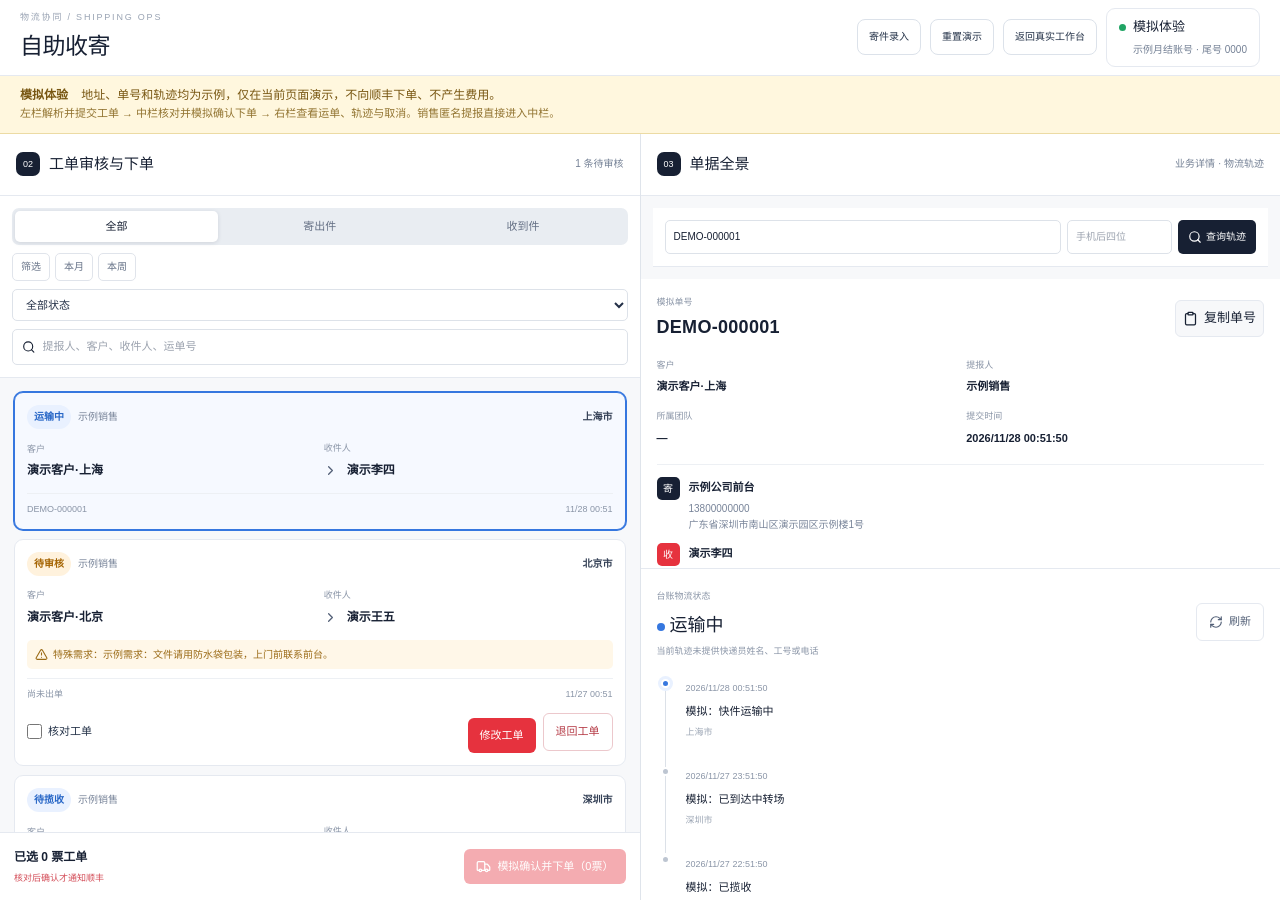
Test: explicit shipping simulation › demonstrates the pending sales confirmation and resets only local example state
The width and height of the screenshot is (1280, 900).
Expected: the text "模拟：快件运输中" is shown, [686, 705, 774, 717]
Click the text "演示客户·北京" at (65, 617), box [27, 610, 103, 624]
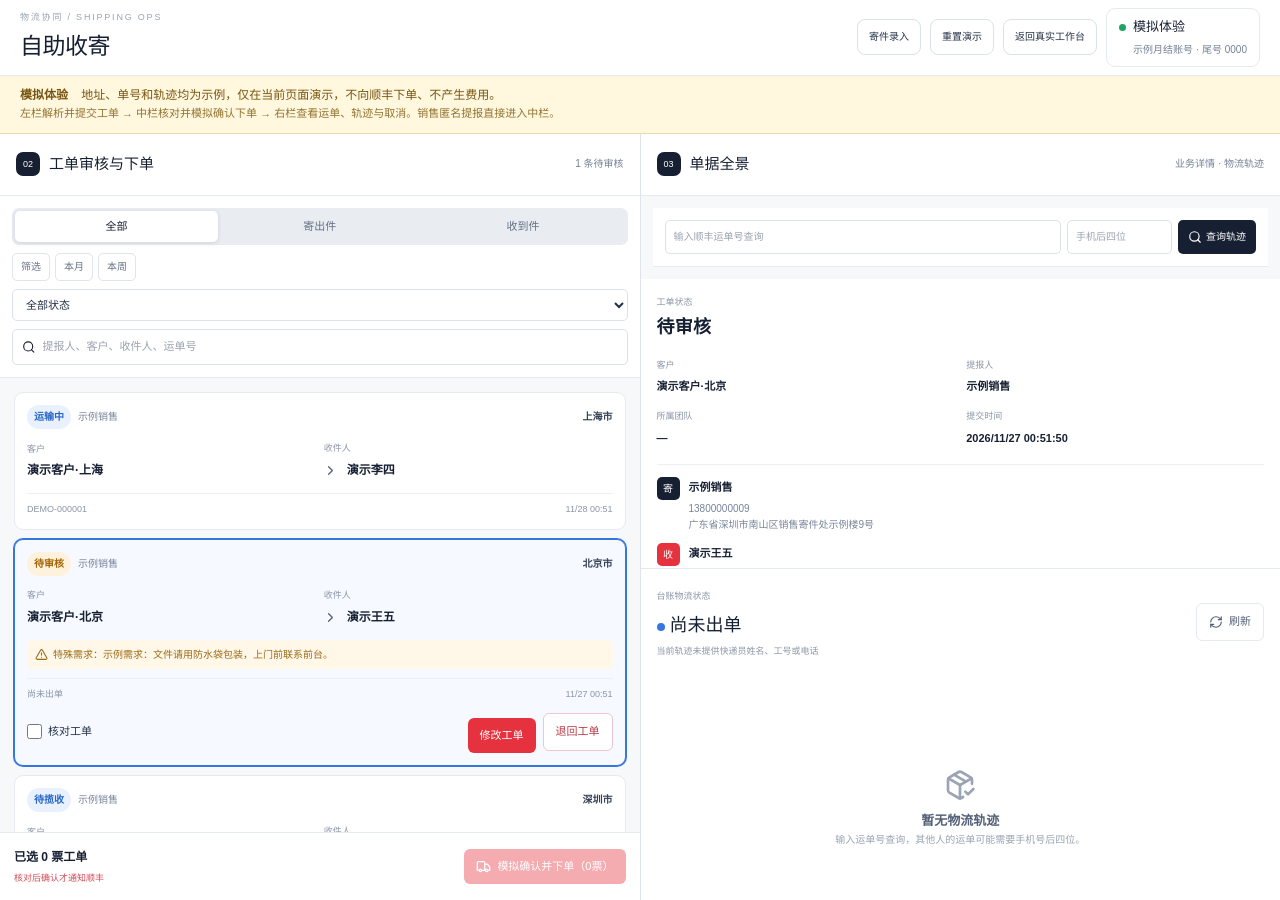
Click the checkbox named "核对并选择工单 DEMO-REQ-2" at (34, 732), box [27, 724, 42, 739]
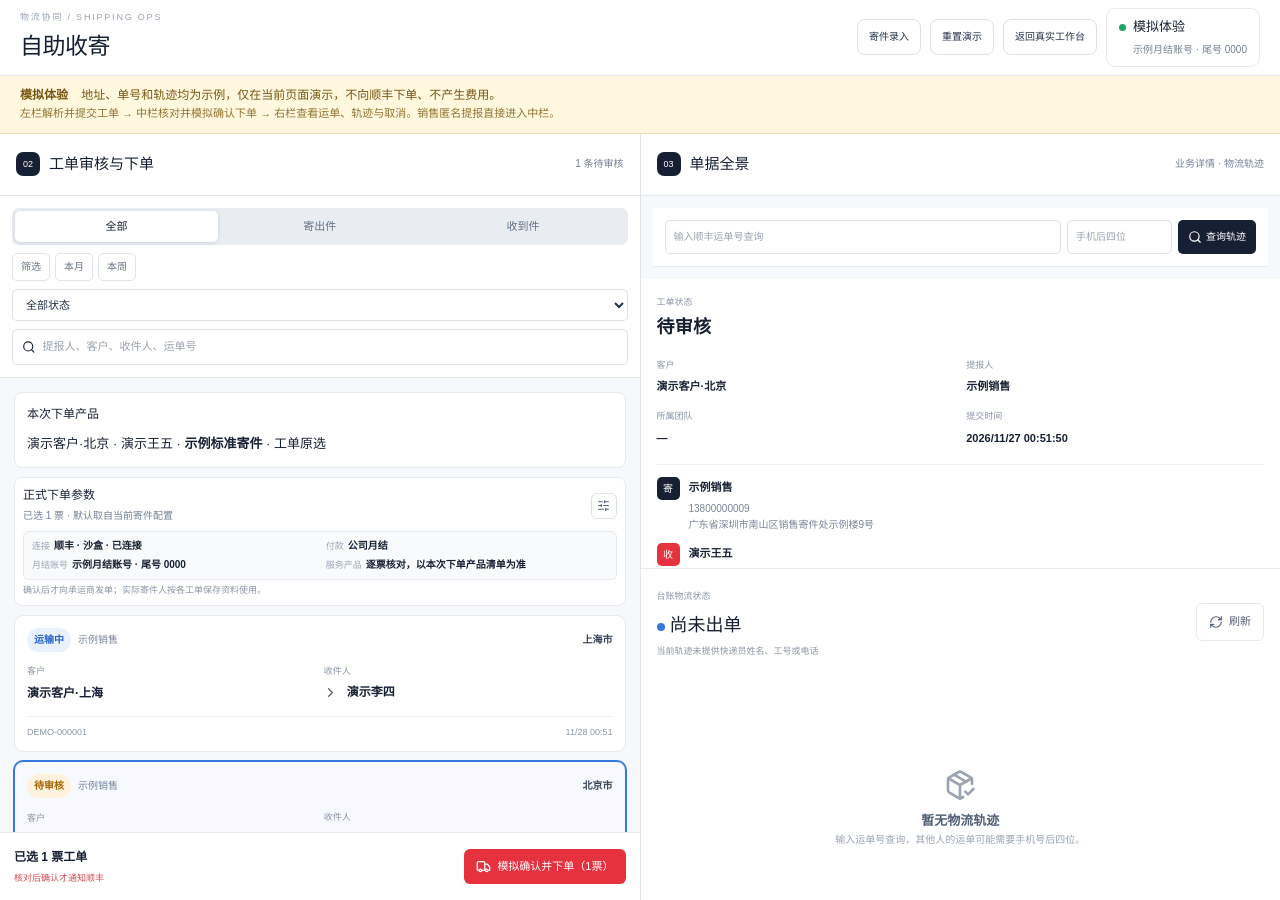
Click the button "模拟确认并下单（1票）" at (545, 866), box [464, 849, 626, 884]
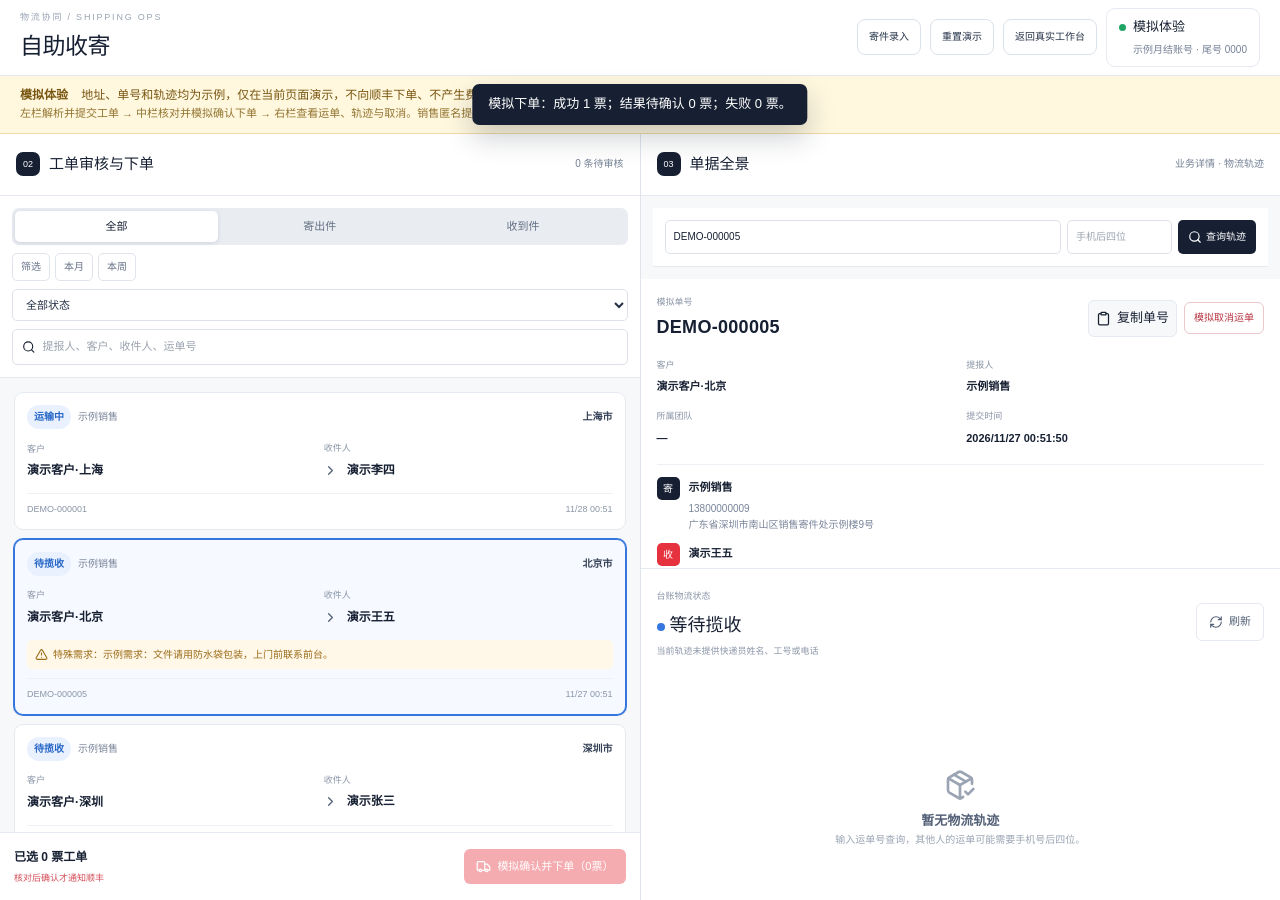
Result: the text "模拟下单：成功 1 票；结果待确认 0 票；失败 0 票。" is shown at [472, 84, 808, 125]
Result: the 2nd text "DEMO-000005" is shown at [27, 687, 87, 702]
Click the button "重置演示" at (962, 38), box [930, 20, 994, 56]
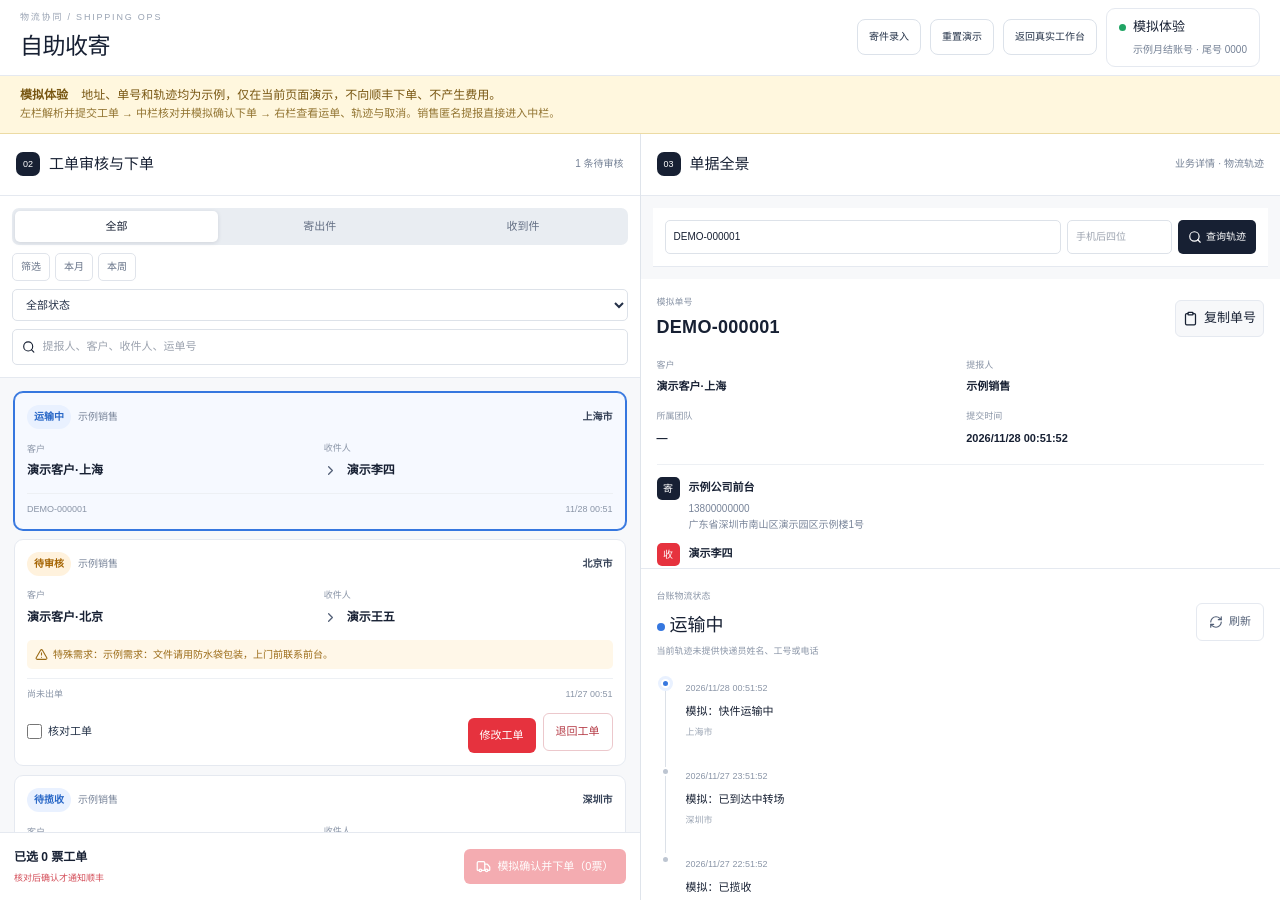
Result: the checkbox named "核对并选择工单 DEMO-REQ-2" is shown at [27, 724, 42, 739]
Result: the button "DEMO-000005" is gone
